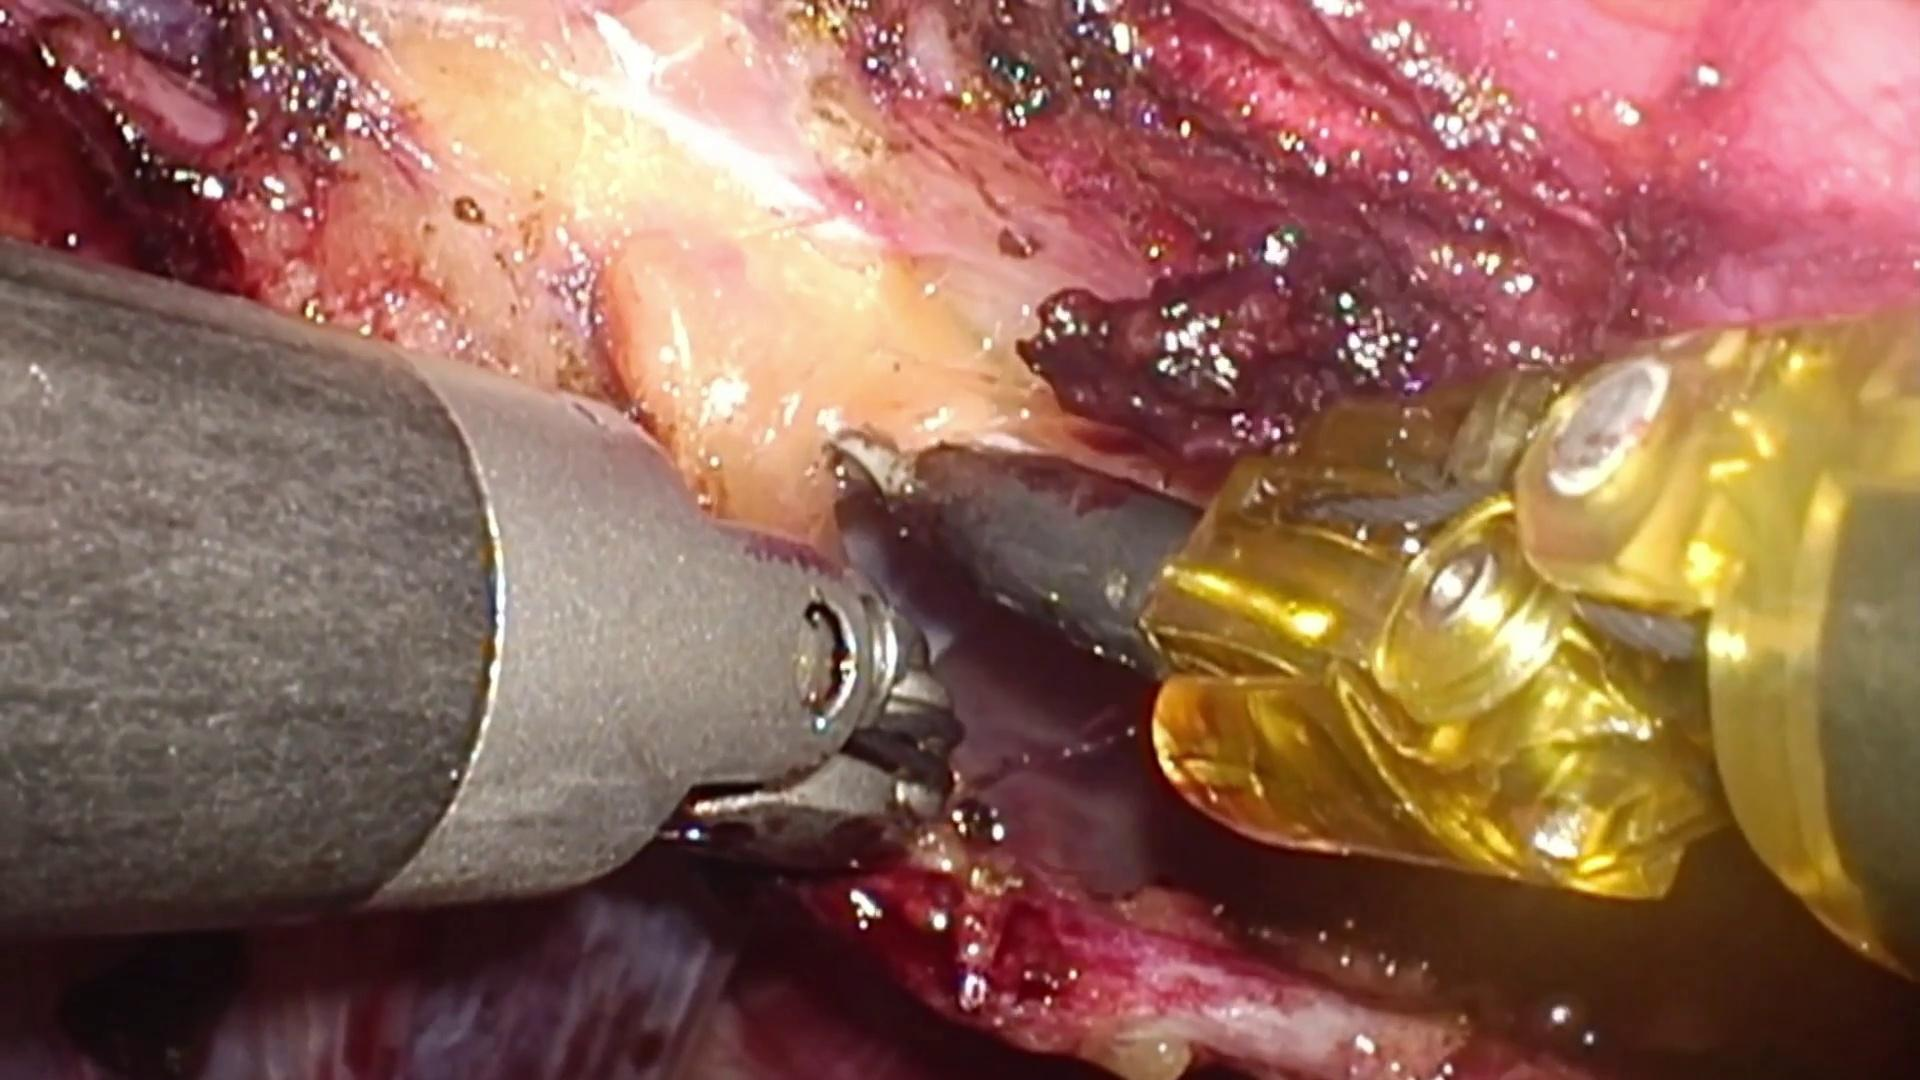Cautery_Spatula: (824, 418, 1203, 687)
